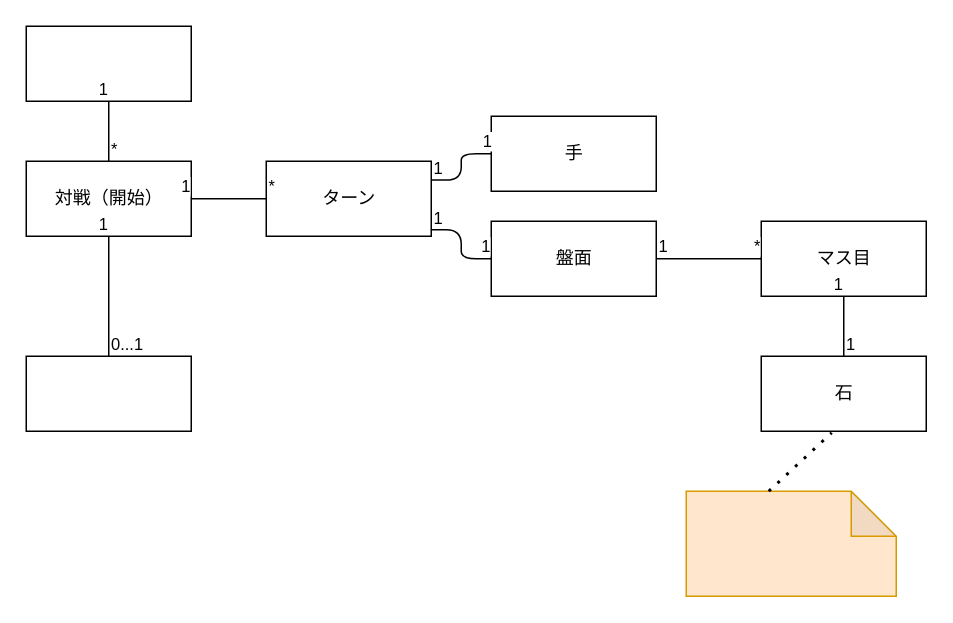
Image size: 953x623. Some labels were removed from this diagram. The centre of each missing label's shape, as x and y in pixels:
プレイヤ: (x=108, y=63)
対戦結果: (x=108, y=393)
石の種類 ・黒 ・白 ・空: (x=790, y=543)
